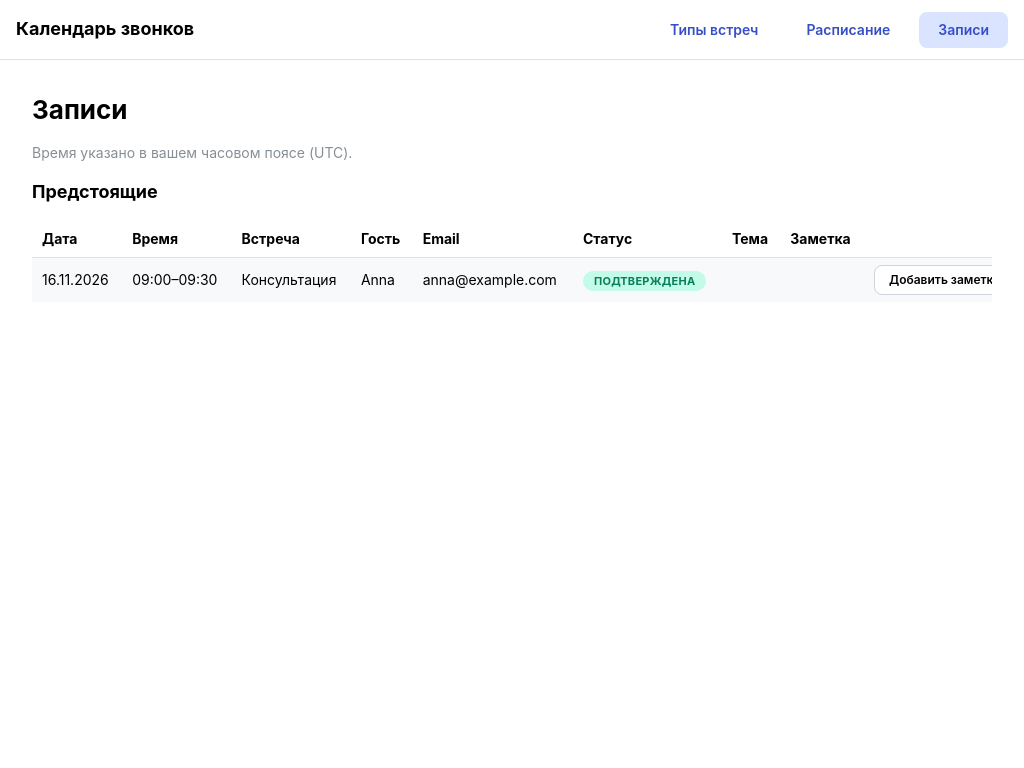
Test case: BookingsPage › adds a note to an upcoming booking in a modal
This screenshot has width=1024, height=768.
Click the button with aria-label "Добавить заметку: Anna, 16.11.2026 09:00".
click(945, 280)  # box [874,265,1016,295]
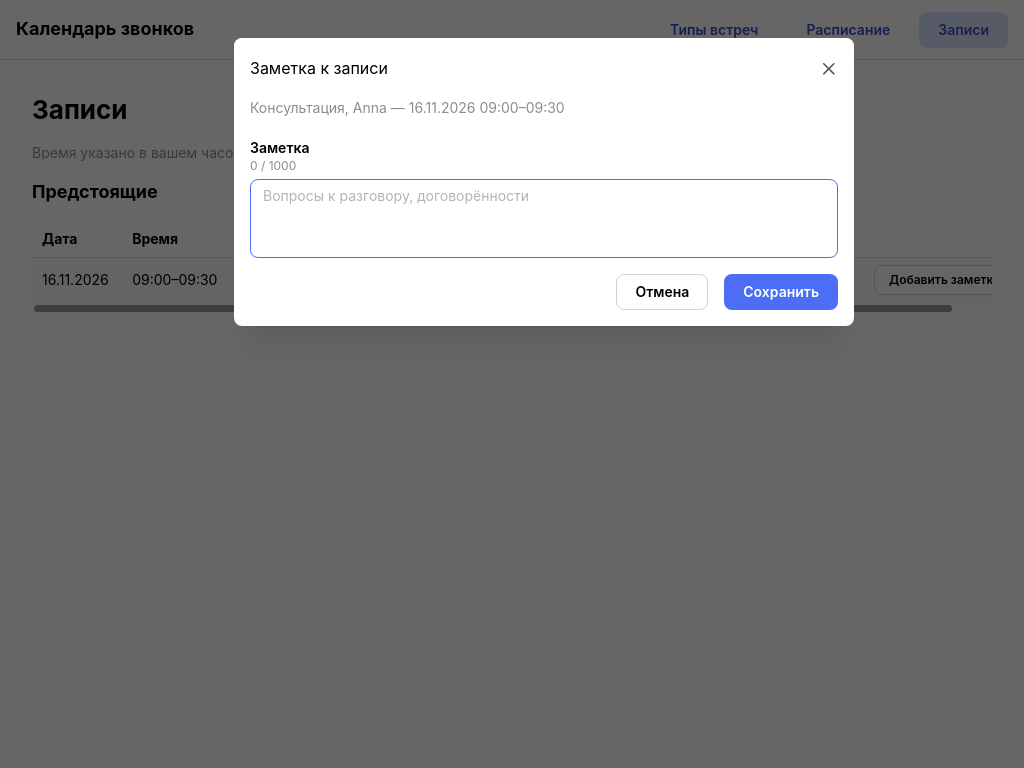
Expected: the text "0 / 1000" is shown, [250,158,296,174]
Type " Обсудить бюджет " into the text box labelled "Заметка".
click(544, 218); type(" Обсудить бюджет ")  # box [250,179,838,258]
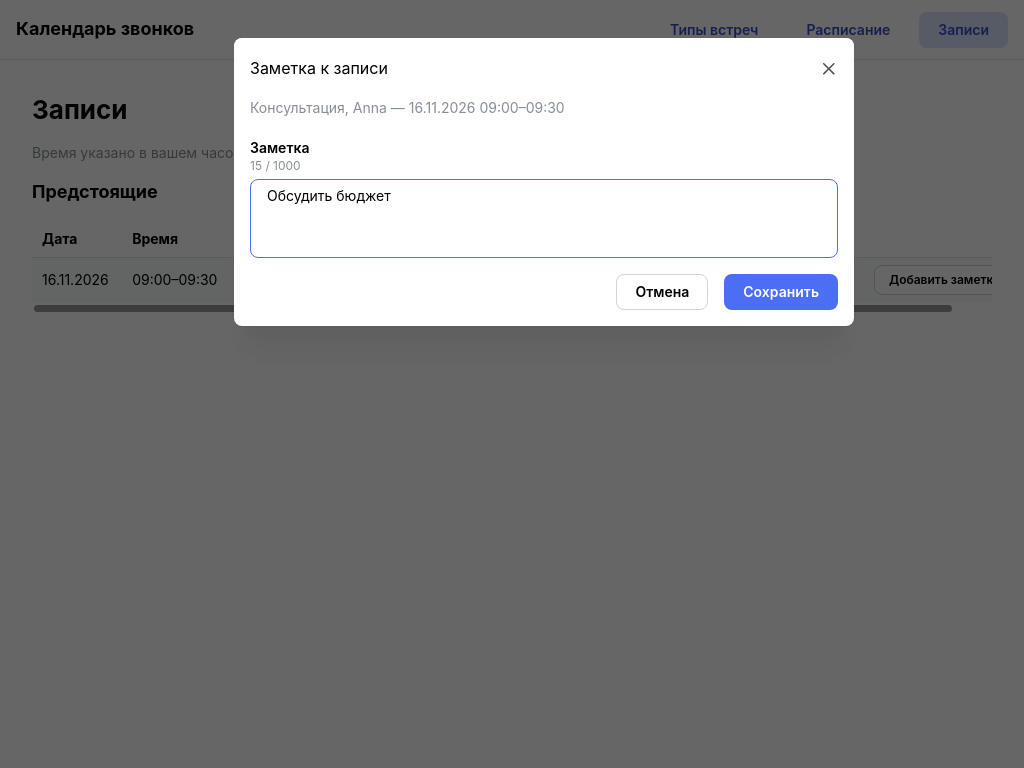
Expected: the text "15 / 1000" is shown, [250,158,301,174]
Click the button "Сохранить".
click(781, 292)  # box [724,274,838,310]
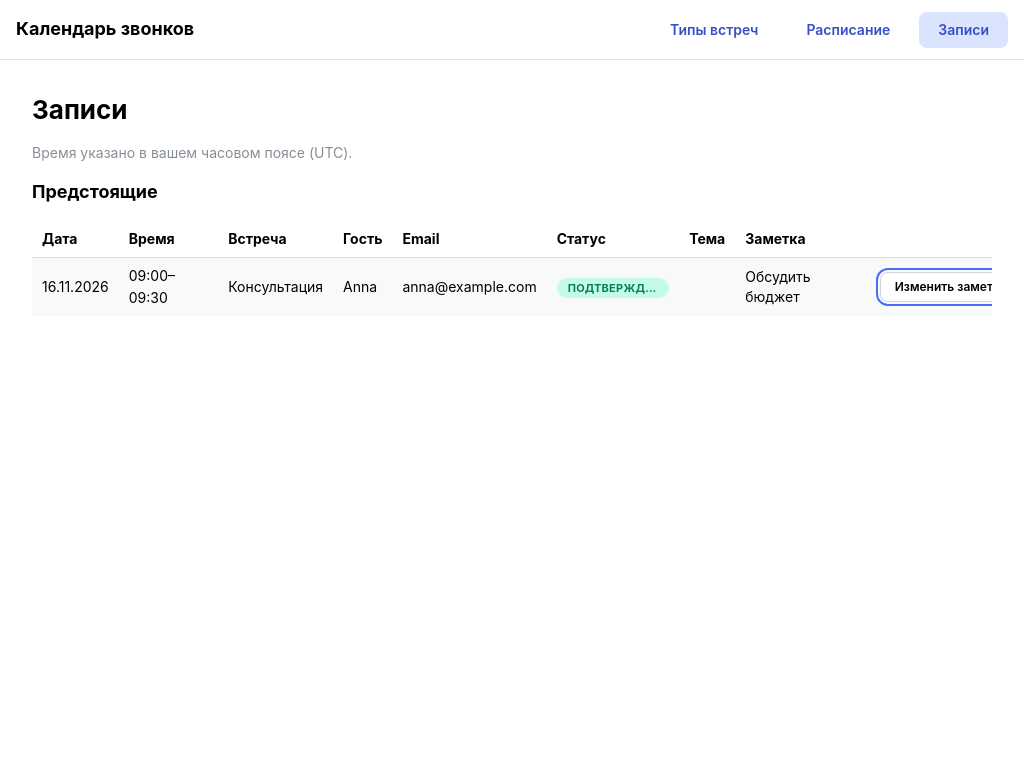
Expected: the dialog is gone
Expected: the cell "Обсудить бюджет" is shown, [735,258,870,316]
Expected: the button "Добавить заметку" is gone
